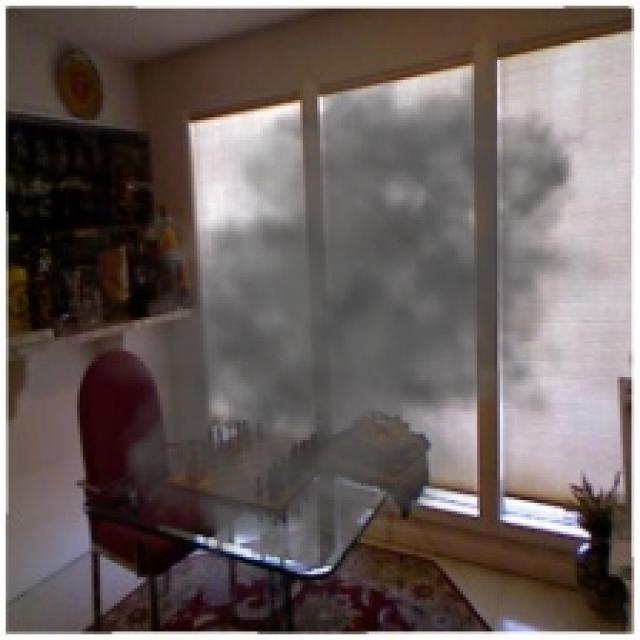Smoke: (82, 31, 614, 598)
